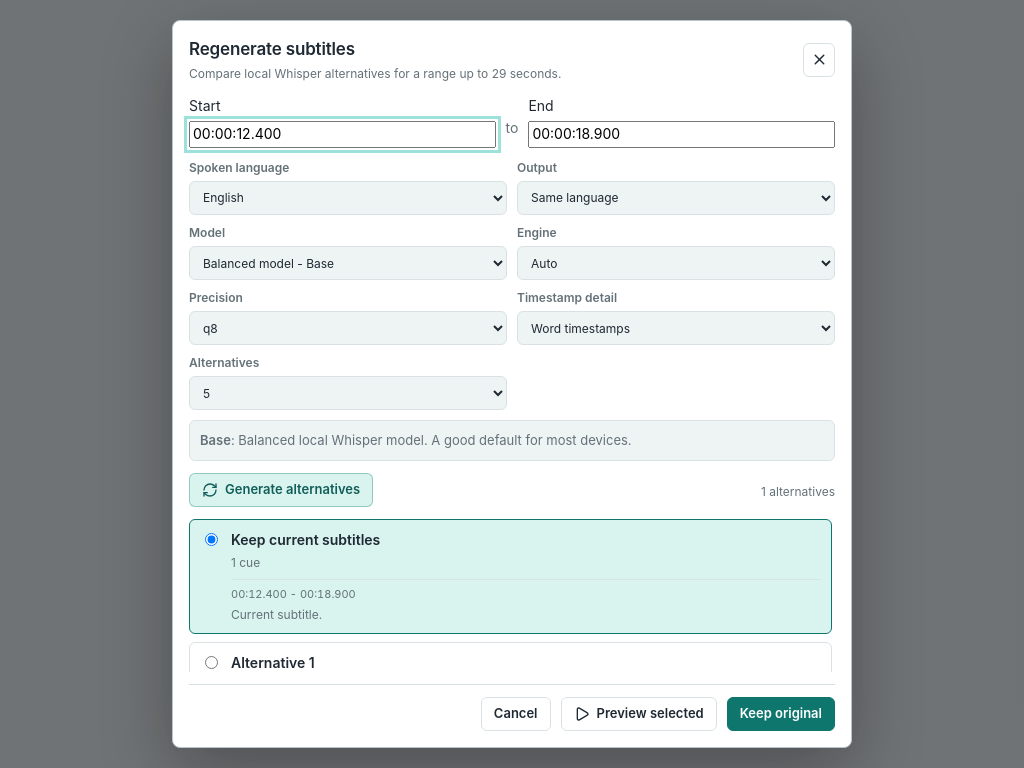
Test: RegenerationDialog › selects the requested alternative count and invalidates displayed candidates
Select "5" in the dropdown named "Regeneration alternative count" at (348, 393), box [189,376,507,410]
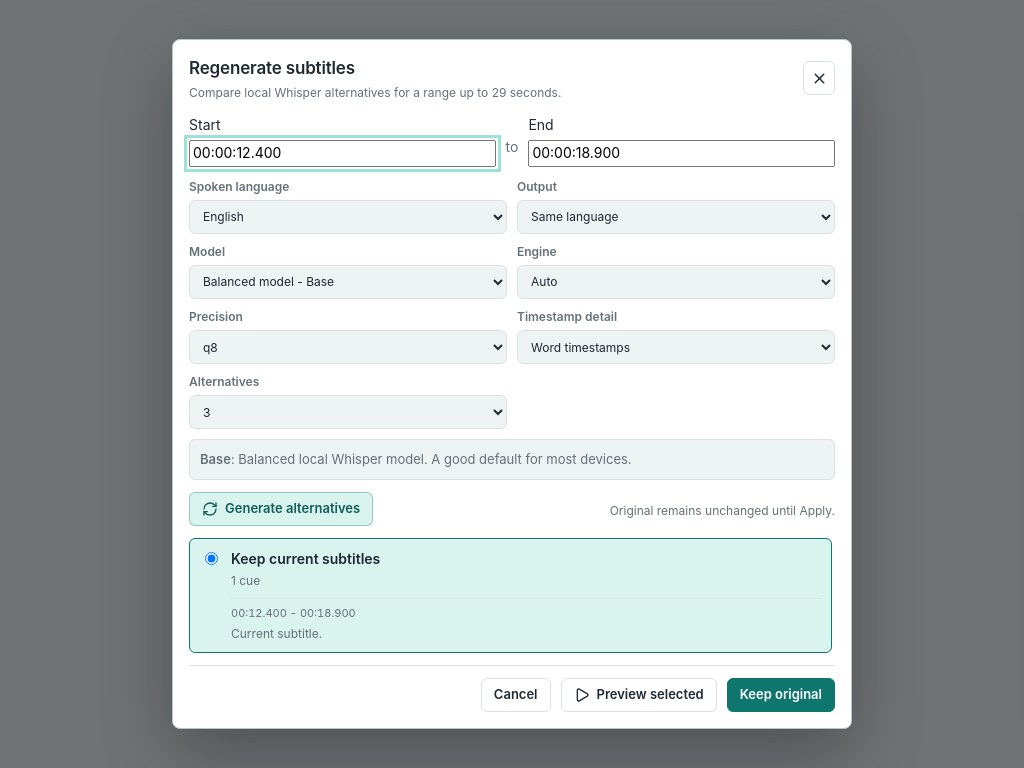
Expected: the text "Alternative 1" is gone
